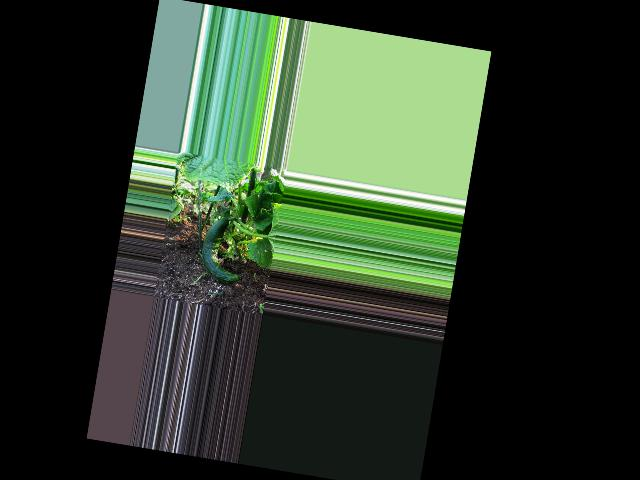cucumber: (196, 214, 248, 285)
